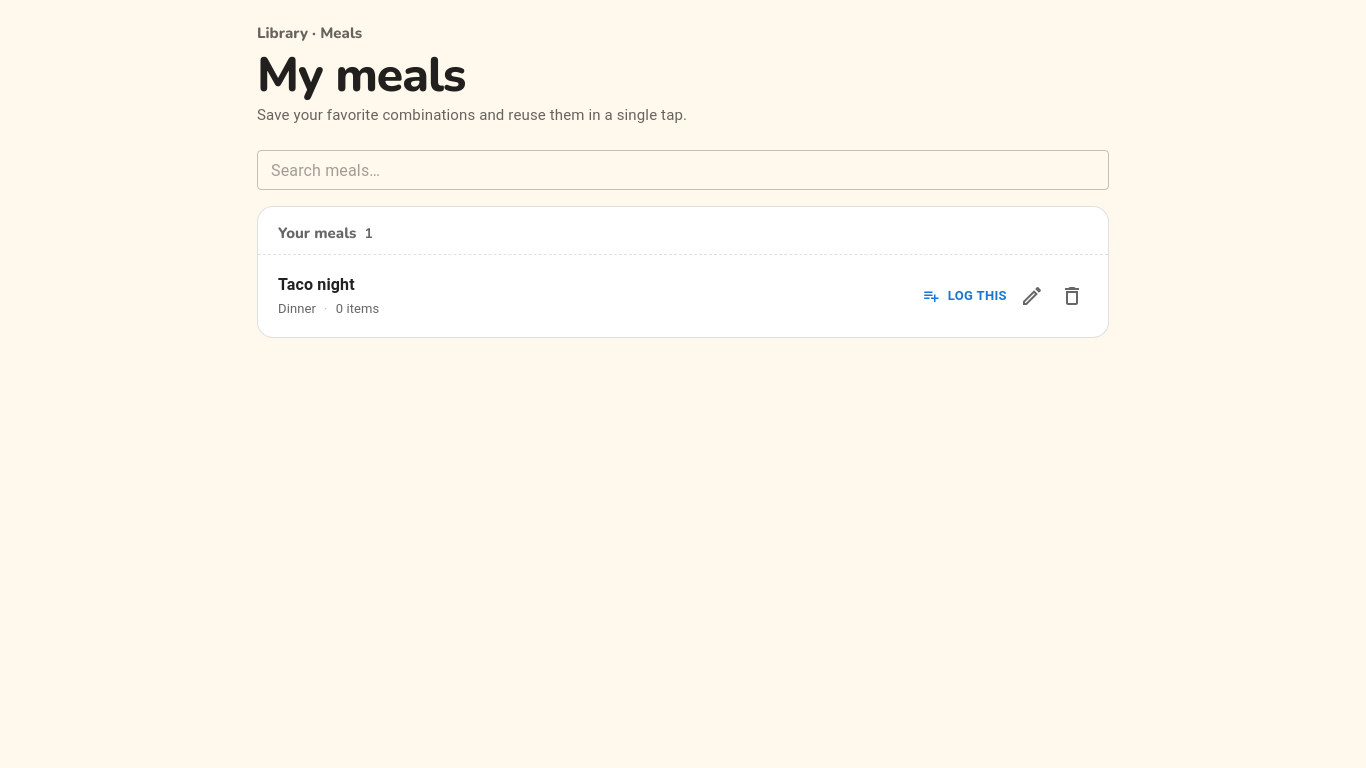
Test: My Meals: Log this › says so in plain words when it fails
Click the button with aria-label "Log Taco night".
click(965, 296)  # box [919,274,1012,318]
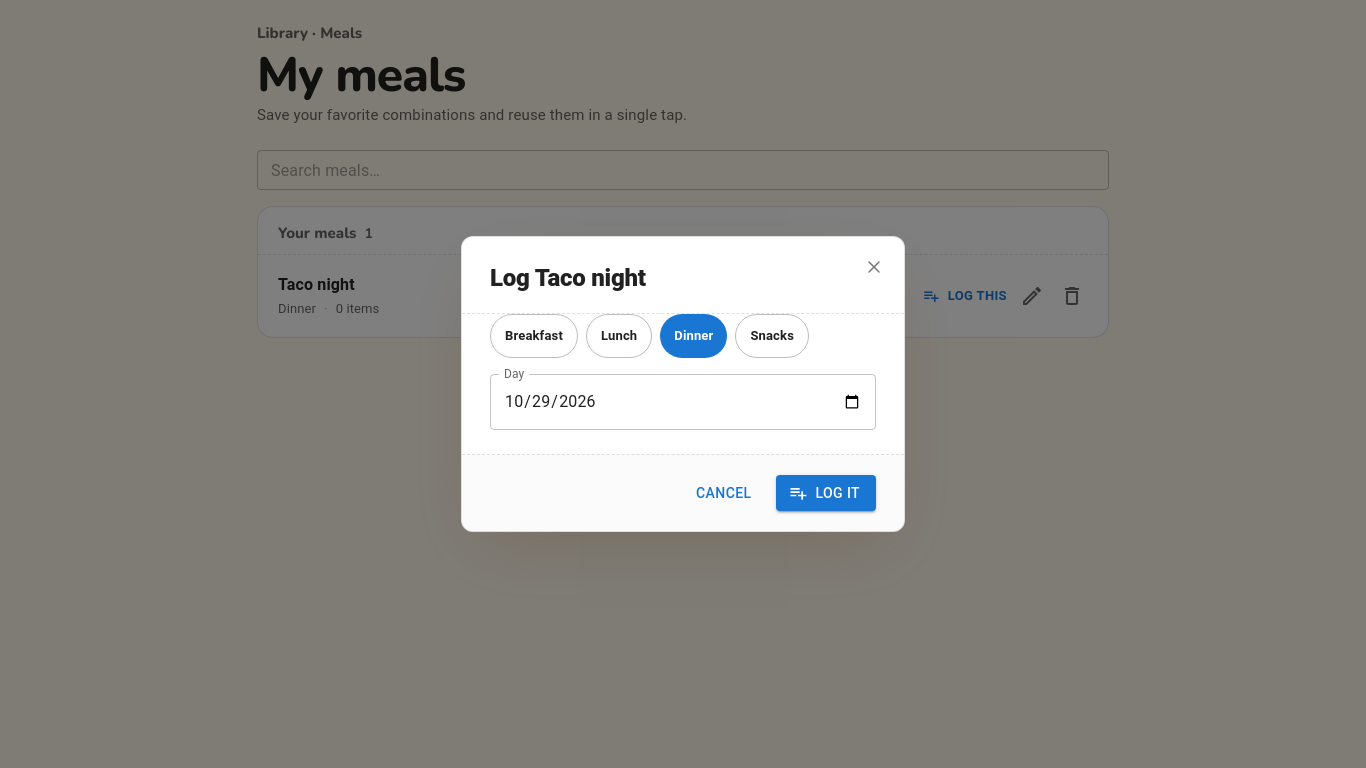
Click the button "Log it".
click(826, 493)  # box [776,474,876,511]
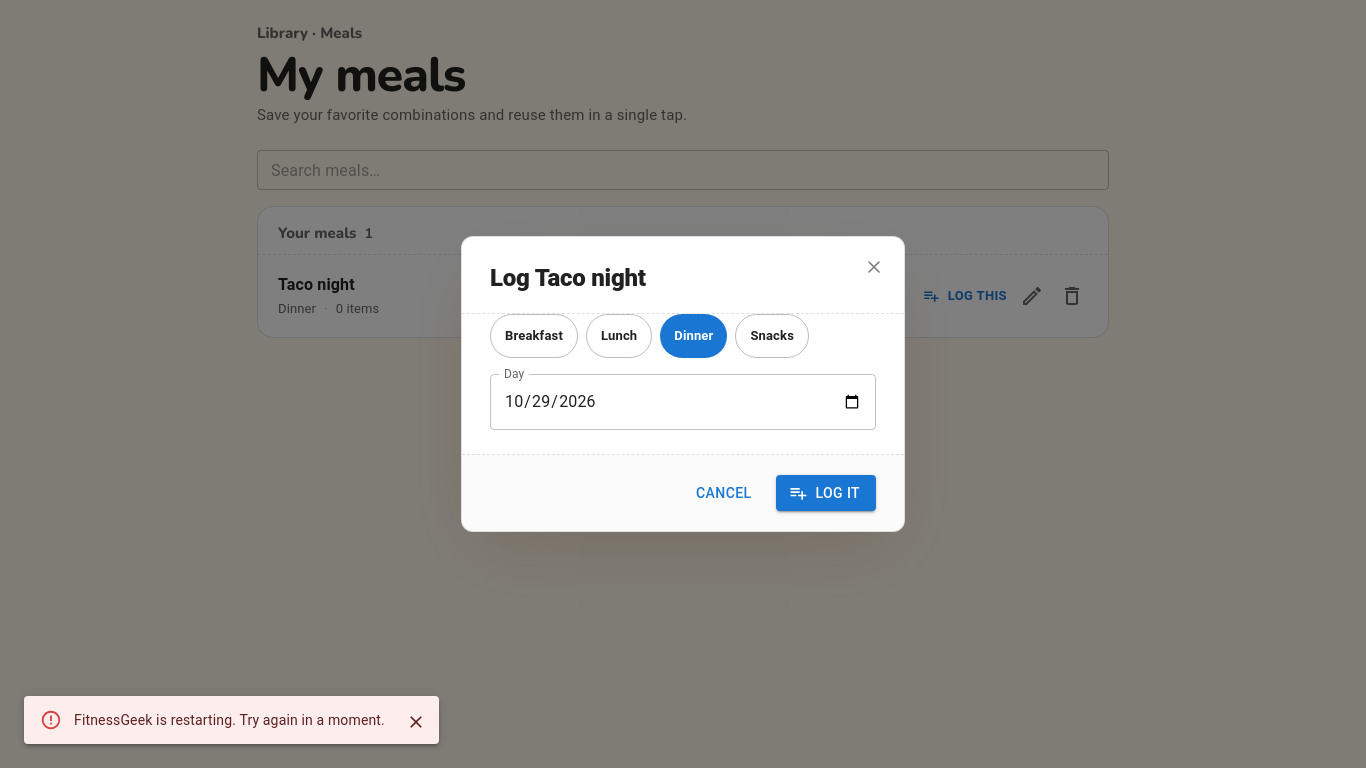
Expected: the text "FitnessGeek is restarting. Try again in a moment." is shown, [74,712,385,728]
